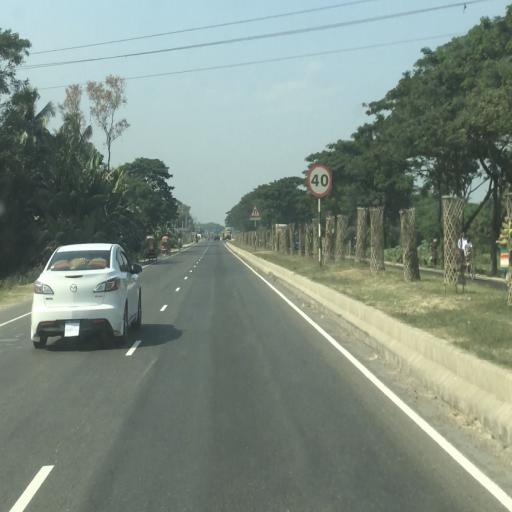car: (30, 240, 144, 352)
rickshaw: (460, 233, 477, 282), (144, 234, 160, 265), (160, 236, 172, 259)
truck: (214, 227, 221, 242), (225, 228, 232, 241)
